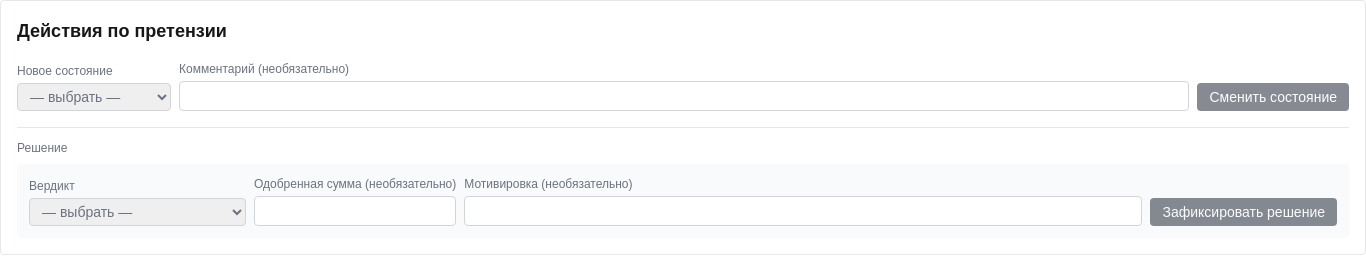
Test case: ClaimActions — решение › submit заблокирован, пока FULL без суммы; разблокируется с суммой
Select "Полное удовлетворение" in the dropdown labelled "Вердикт" at (138, 212), box [29,198,246,226]
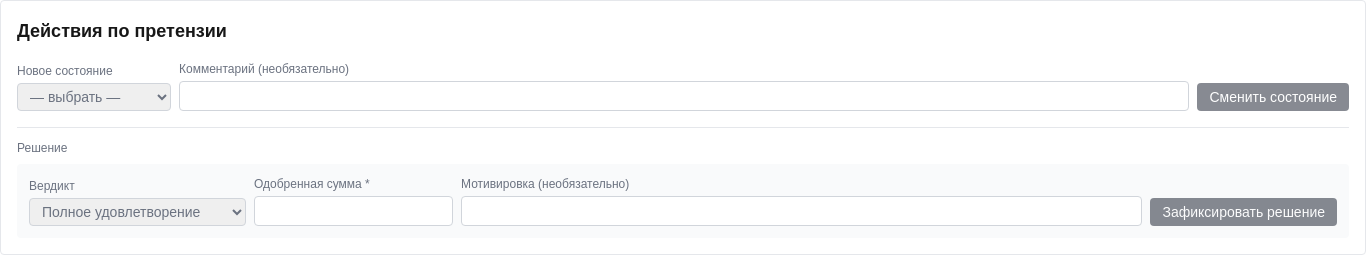
Expected: the button "Зафиксировать решение" is disabled, [1150,198,1337,226]
Type "50000" into the number field labelled "Одобренная сумма *" at (354, 211), box [254,196,453,226]
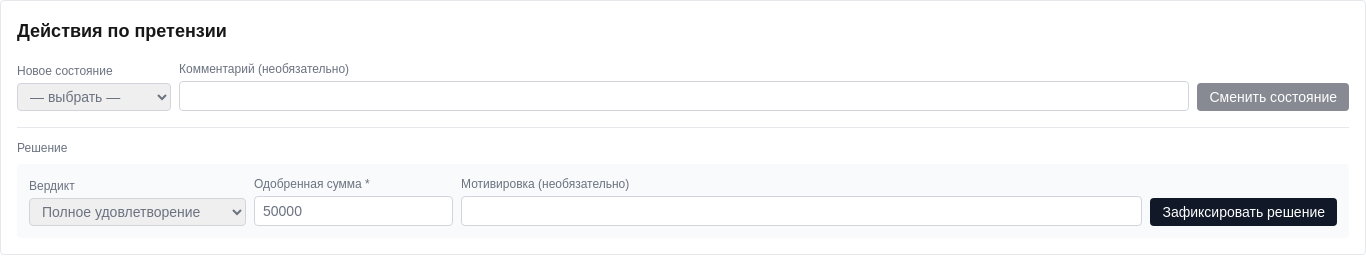
Now the button "Зафиксировать решение" is enabled, box [1150,198,1337,226]
